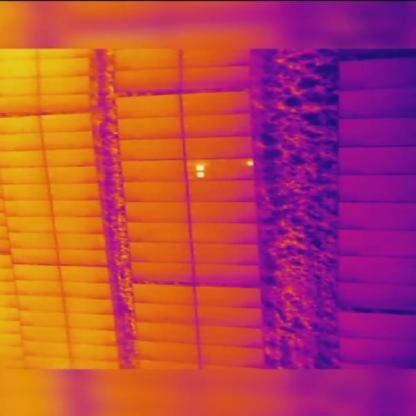anomaly: (193, 163, 207, 178), (246, 160, 255, 167)
